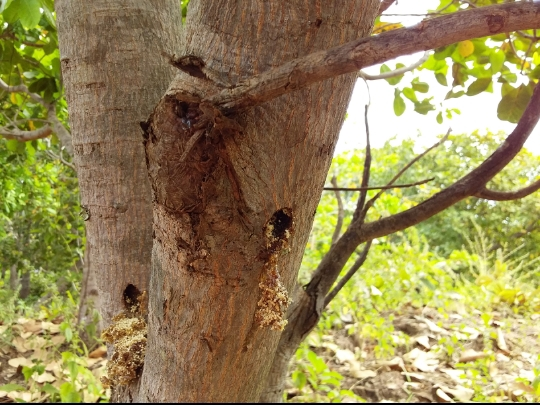Apate terebrans: (235, 205, 331, 335)
